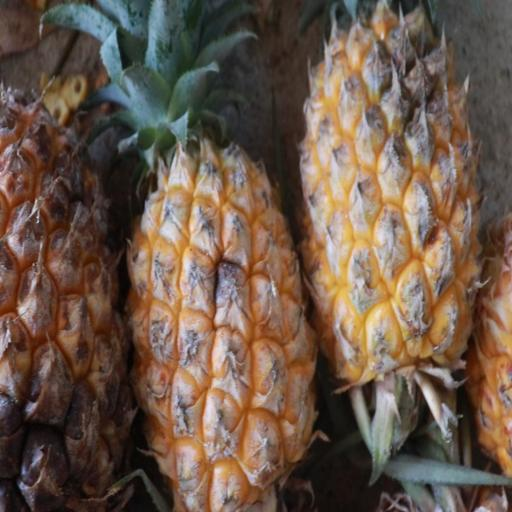Pineapple - v8 v1: (125, 0, 318, 512), (291, 0, 487, 397), (0, 59, 130, 512)
